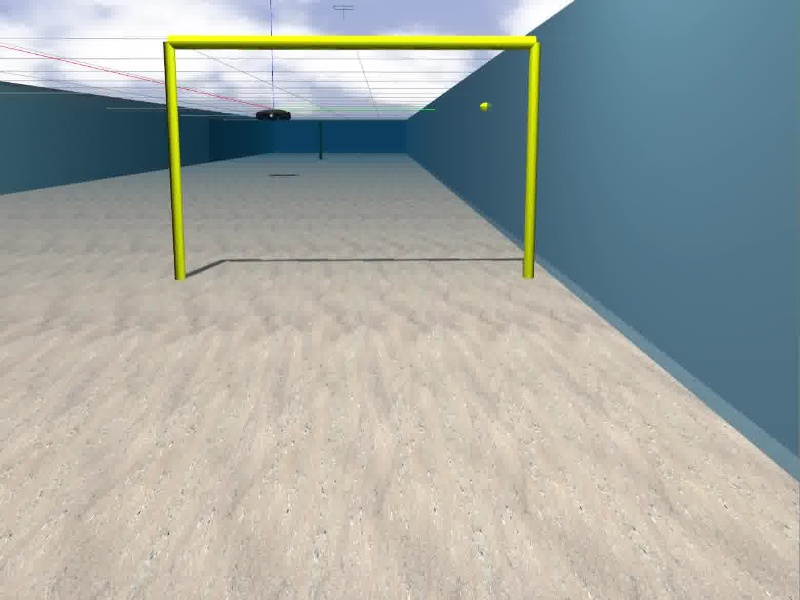gate: (162, 35, 541, 283)
